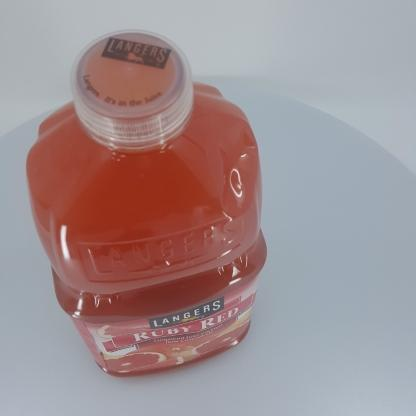---------------: (25, 29, 267, 378)
